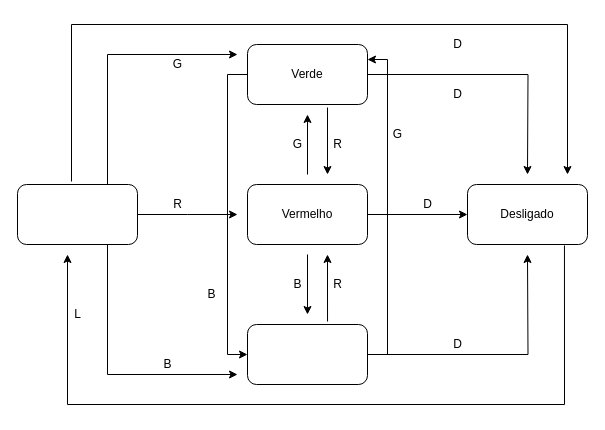
Some shapes in this 605 by 430 pixel diagram are drawn without their labels. The shapes that lost their labels are listed below. From the top down, each one's centre as x and y in pixels, then its label:
At (x=77, y=214): "Ligado".
At (x=307, y=354): "Azul".
